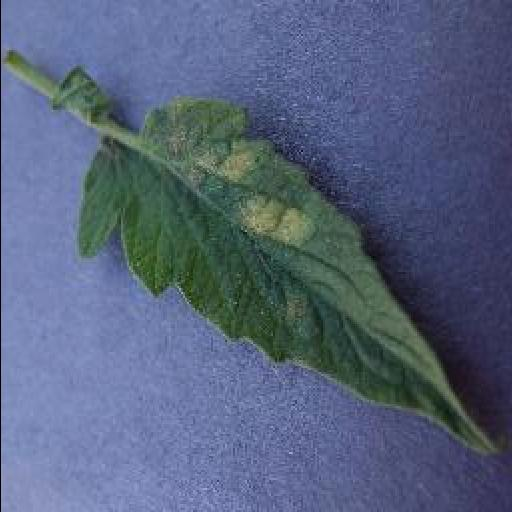disease_tomato: (76, 103, 502, 451)
